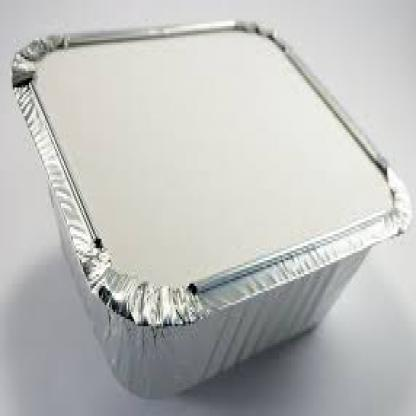CARDBOARD: (32, 28, 390, 279)
METAL: (12, 16, 412, 392)
